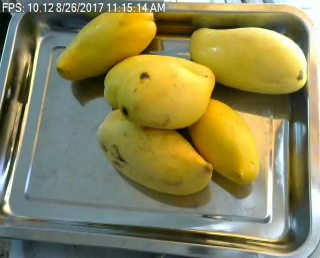Mango: (98, 108, 211, 193), (188, 27, 307, 94), (56, 4, 156, 82), (102, 54, 217, 113), (118, 61, 213, 127), (187, 97, 258, 183)
